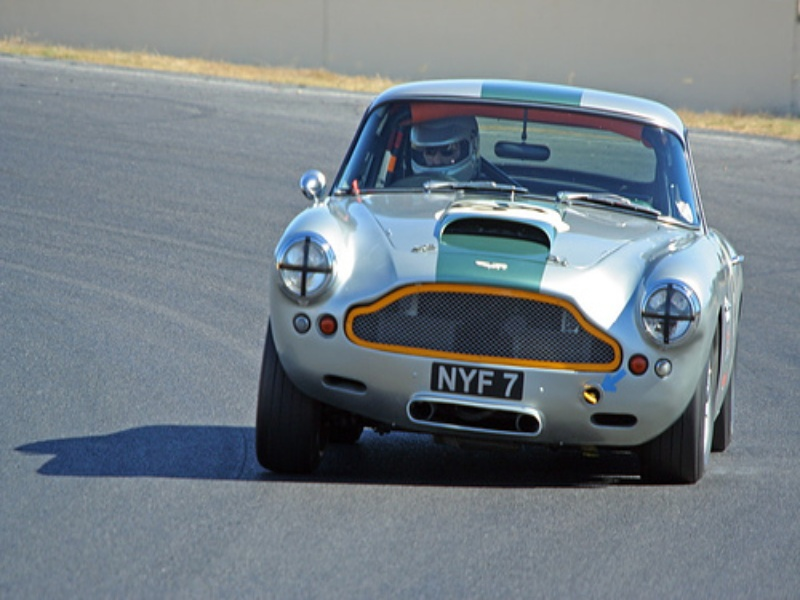car: (256, 80, 743, 486)
person: (406, 113, 481, 179)
